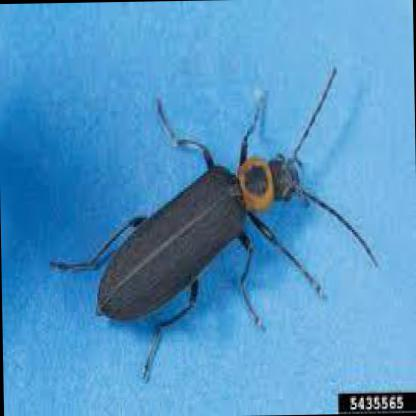blister beetle: (94, 67, 366, 323)
